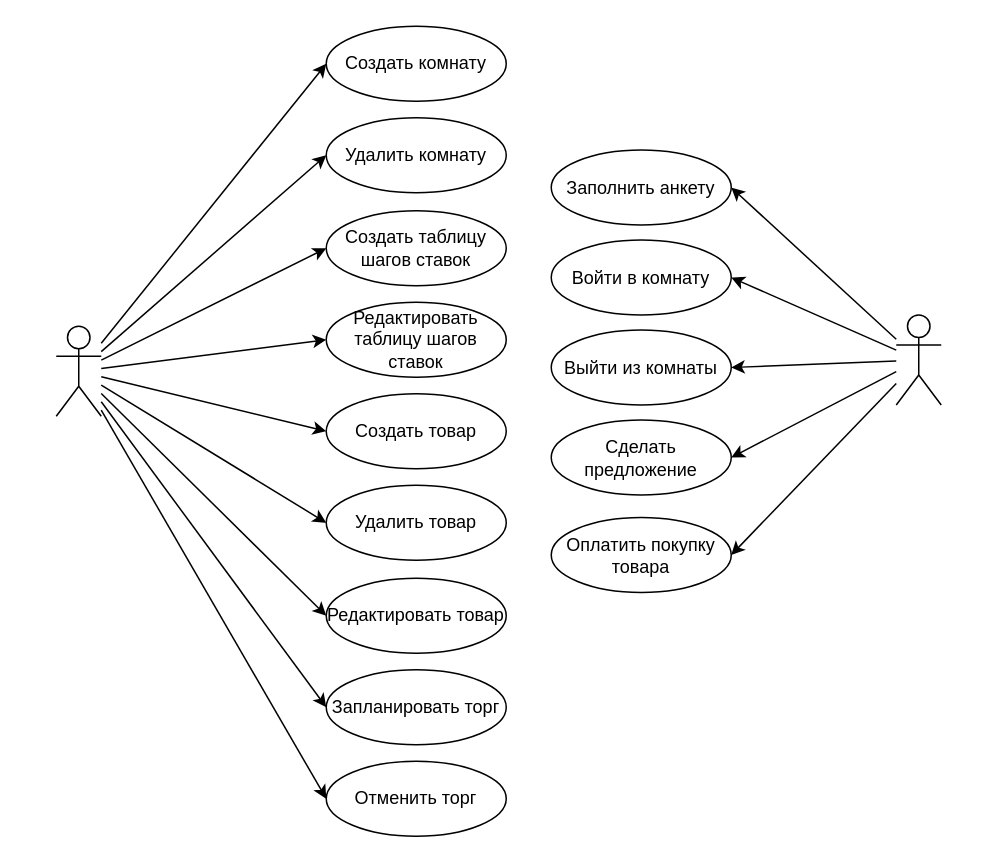
This 993x863 diagram has some shape labels left out. Here are the shapes that lost their labels. From the top down, the centre of each, then its label:
the point at 78,370: Организатор
the point at 918,359: Покупатель
